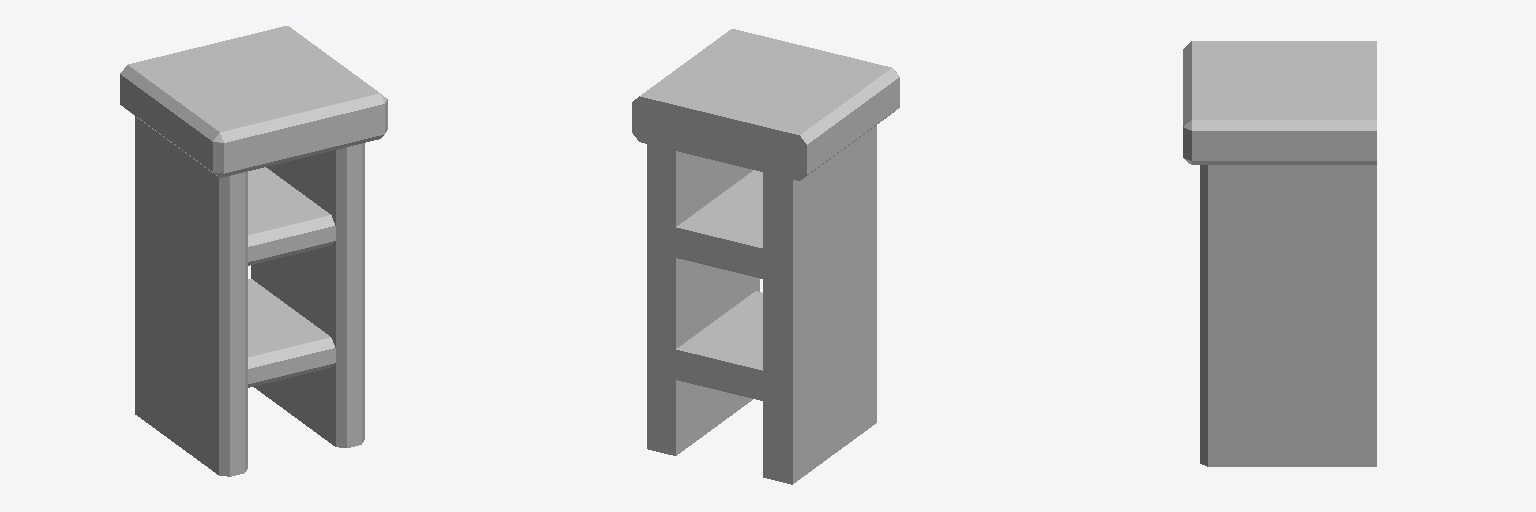
File: countertop_closet_A_small.obj
The picture shows the model from 3 angles: view 1: azimuth 30°, elevation 25°; view 2: azimuth 150°, elevation 25°; view 3: azimuth 270°, elevation 25°; orthographic projection.
Visible parts, largest first — view 1: countertop_closet_A_small; view 2: countertop_closet_A_small; view 3: countertop_closet_A_small.
Boxes of the visible parts, x1,y1,x2,y2 form: countertop_closet_A_small: [120, 26, 387, 476]; countertop_closet_A_small: [632, 29, 899, 484]; countertop_closet_A_small: [1183, 41, 1376, 466].
Size of the model in its own units: 1.2 by 2.3 by 1.15.